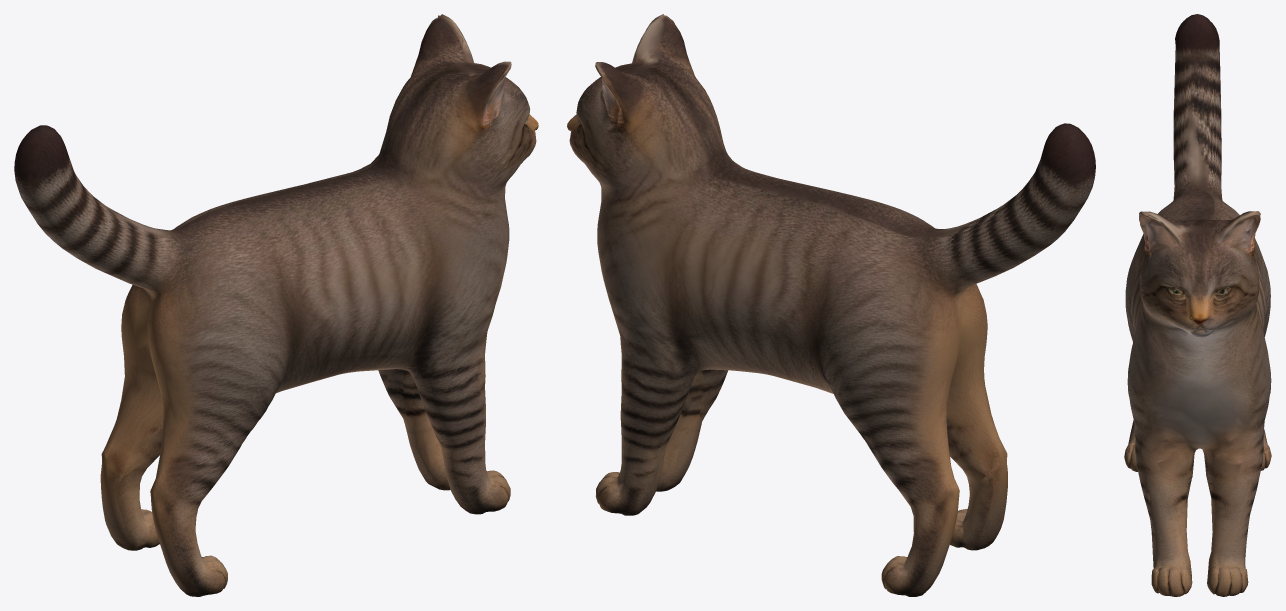
Rendered from KPURRY.glb.
3 views of the same model, side by side, from view 1: azimuth 30°, elevation 25°; view 2: azimuth 150°, elevation 25°; view 3: azimuth 270°, elevation 25° (orthographic). The views are drawn at different scales.
Visible parts, largest first — view 1: material; view 2: material; view 3: material.
Part boxes in pixels (x1=…): material: x1=14, y1=14, x2=538, y2=596; material: x1=567, y1=14, x2=1095, y2=596; material: x1=1124, y1=14, x2=1271, y2=596.
Size of the model in its own units: 1.15 by 0.9998 by 0.3338.
1 material, 1 textured.
